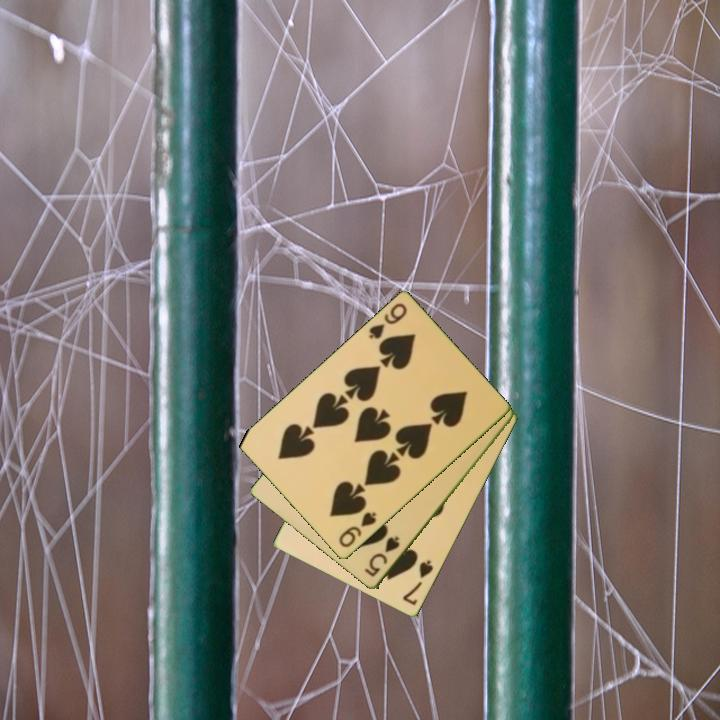5s: (361, 533, 403, 580)
7s: (399, 557, 436, 608)
9s: (365, 300, 410, 343), (335, 508, 379, 551)
